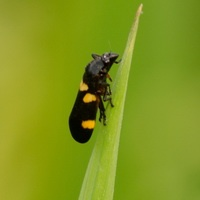insect: (69, 52, 118, 142)
